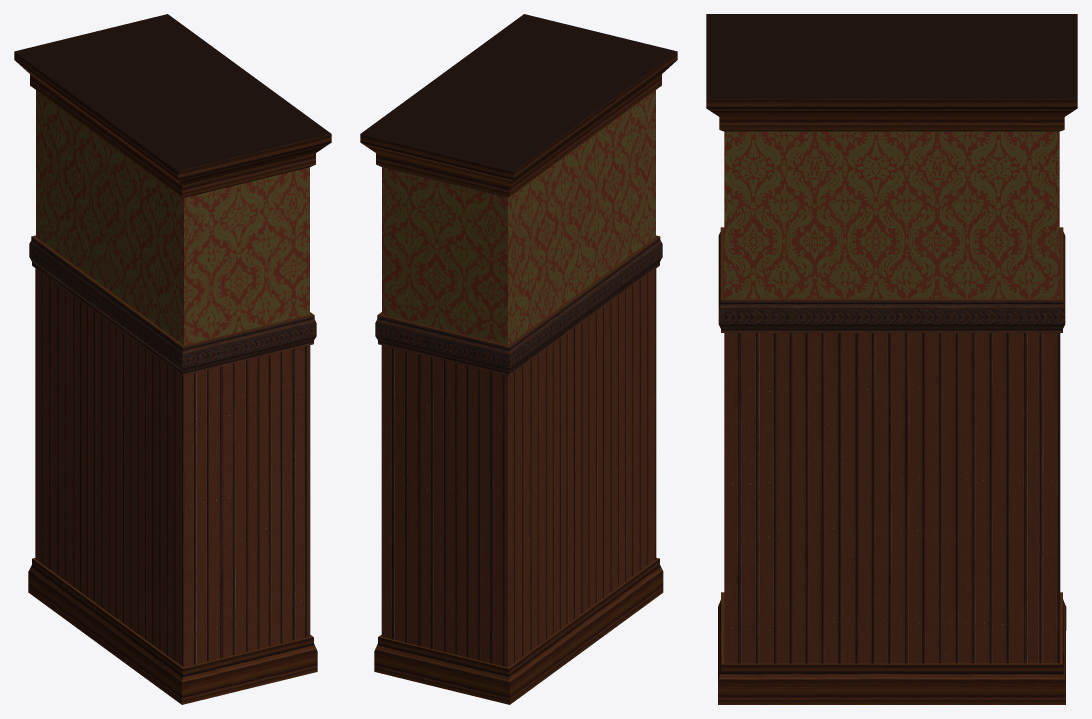
File: Wall2BoxDeep.fbx
3 renders of one model, left to right at view 1: azimuth 30°, elevation 25°; view 2: azimuth 150°, elevation 25°; view 3: azimuth 270°, elevation 25°, orthographic. The views are drawn at different scales.
Visible parts, largest first — view 1: Wall Outie_Large.004; view 2: Wall Outie_Large.004; view 3: Wall Outie_Large.004.
Part boxes in pixels (<box>): Wall Outie_Large.004: <box>14,14,331,704</box>; Wall Outie_Large.004: <box>360,14,677,704</box>; Wall Outie_Large.004: <box>706,14,1077,704</box>.
Bounding box in the file's own units: 111 × 371 × 205.
